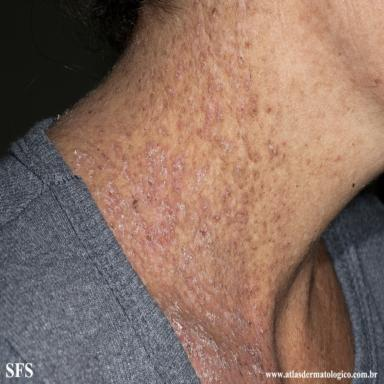Darier_s-Disease: (48, 0, 299, 384)
